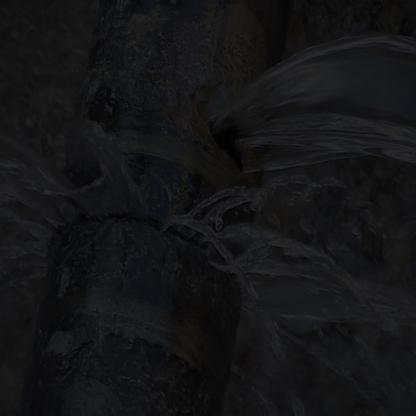burst: (36, 191, 286, 304), (199, 76, 276, 184)
